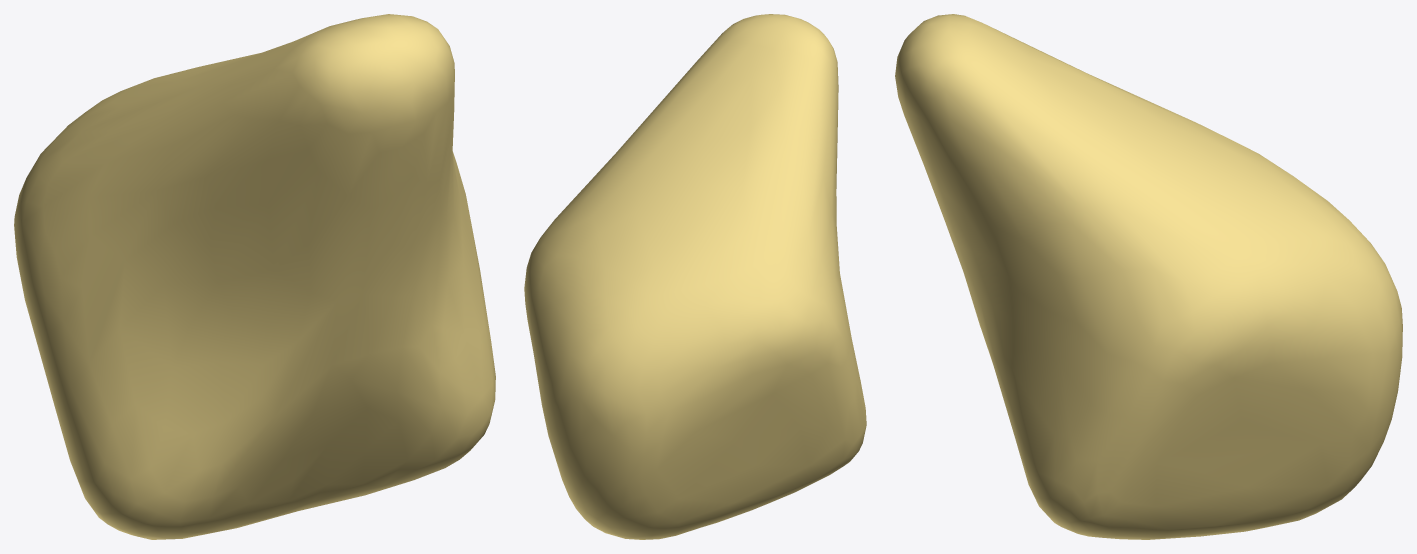
3 renders of one model, left to right at view 1: azimuth 30°, elevation 25°; view 2: azimuth 150°, elevation 25°; view 3: azimuth 270°, elevation 25°, orthographic. The views are drawn at different scales.
Visible parts, largest first — view 1: ZA_b0b2a855d47f2031; view 2: ZA_b0b2a855d47f2031; view 3: ZA_b0b2a855d47f2031.
Boxes of the visible parts, bbox=[...] form: ZA_b0b2a855d47f2031: bbox=[14, 14, 495, 539]; ZA_b0b2a855d47f2031: bbox=[524, 14, 866, 539]; ZA_b0b2a855d47f2031: bbox=[895, 14, 1402, 539].
Size of the model in its own units: 0.0126 by 0.0166 by 0.0157.
